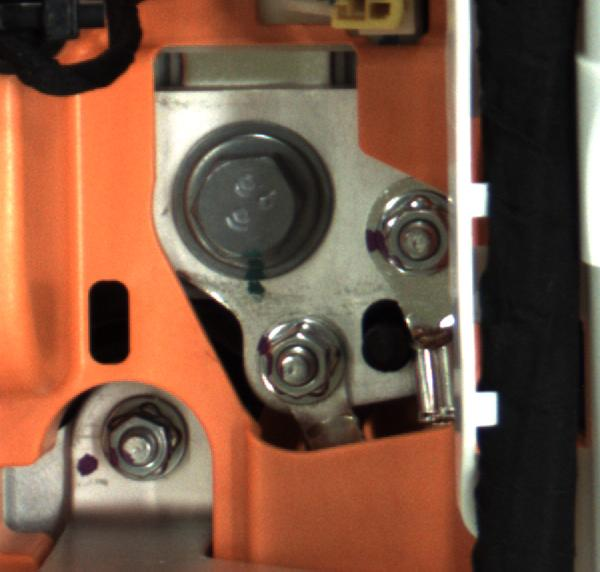nut_b: (156, 118, 340, 285)
screw_s: (91, 402, 204, 484), (258, 306, 342, 399), (380, 194, 463, 279)
